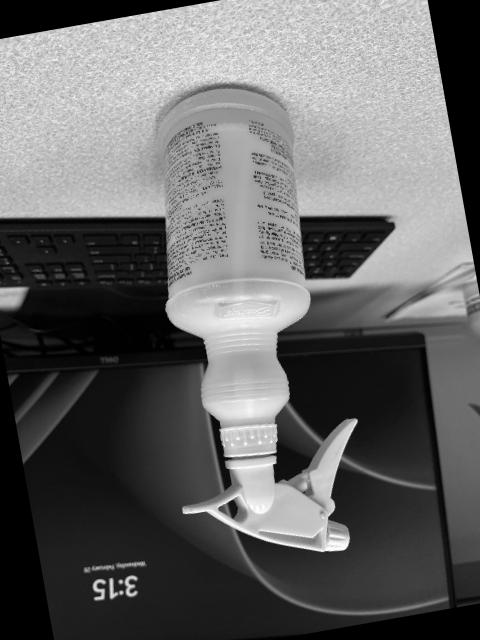StarSpray: (154, 82, 353, 550)
